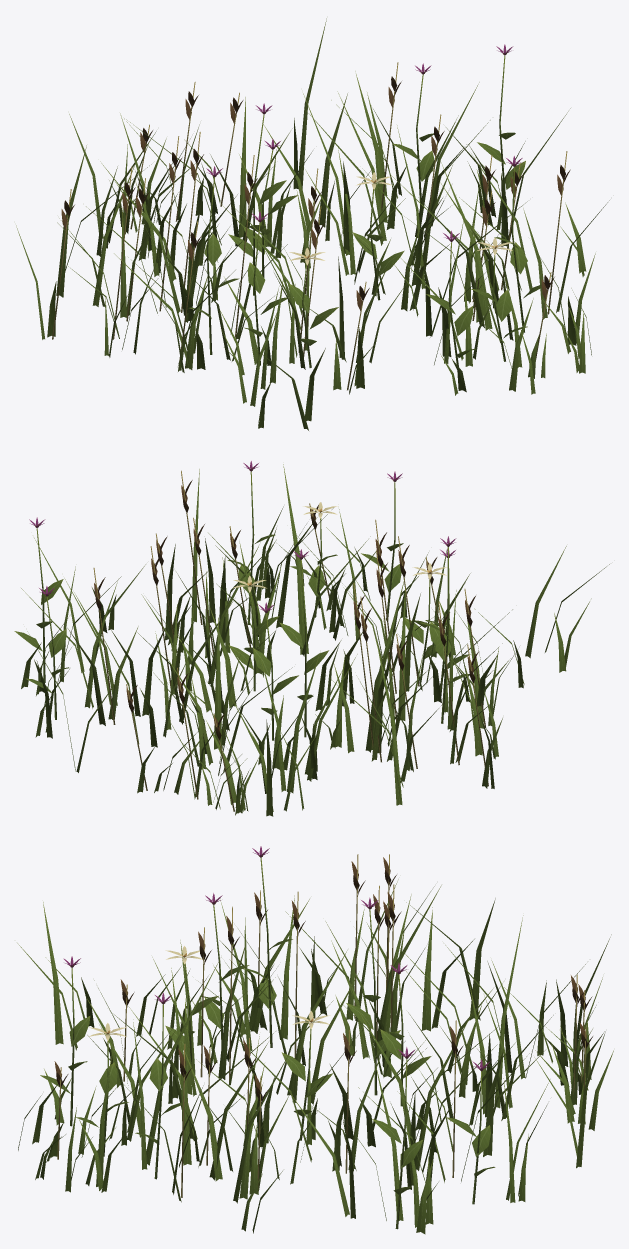
The model's file is frontier_sunmeadow_meadow_lod2.glb.
The picture shows the model from 3 angles, top to bottom: view 1: azimuth 30°, elevation 25°; view 2: azimuth 150°, elevation 25°; view 3: azimuth 270°, elevation 25°; orthographic projection. The views are drawn at different scales.
Visible parts, largest first — view 1: frontier_sunmeadow_meadow_LOD2; view 2: frontier_sunmeadow_meadow_LOD2; view 3: frontier_sunmeadow_meadow_LOD2.
Part boxes in pixels (x1,y1,x2,y2): frontier_sunmeadow_meadow_LOD2: (16, 18, 609, 430); frontier_sunmeadow_meadow_LOD2: (14, 461, 609, 816); frontier_sunmeadow_meadow_LOD2: (17, 846, 613, 1234).
Size of the model in its own units: 2.04 by 0.7194 by 1.99.
Materials: 1 (1 with a texture image).
